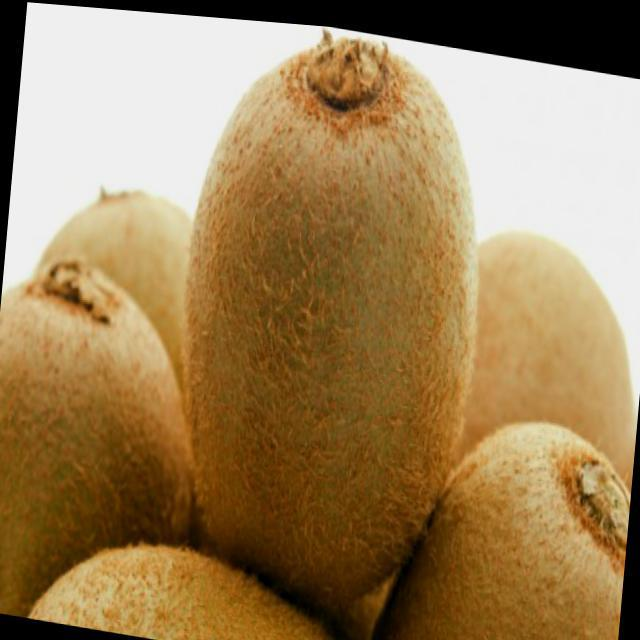kiwi: (157, 11, 497, 616), (1, 244, 214, 640), (358, 383, 637, 640)
